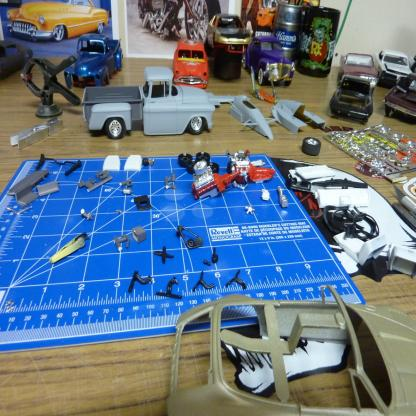Car: (8, 2, 111, 41), (204, 15, 256, 74), (331, 76, 373, 129), (173, 39, 211, 88), (384, 66, 416, 123), (337, 54, 379, 94), (378, 51, 413, 88)
